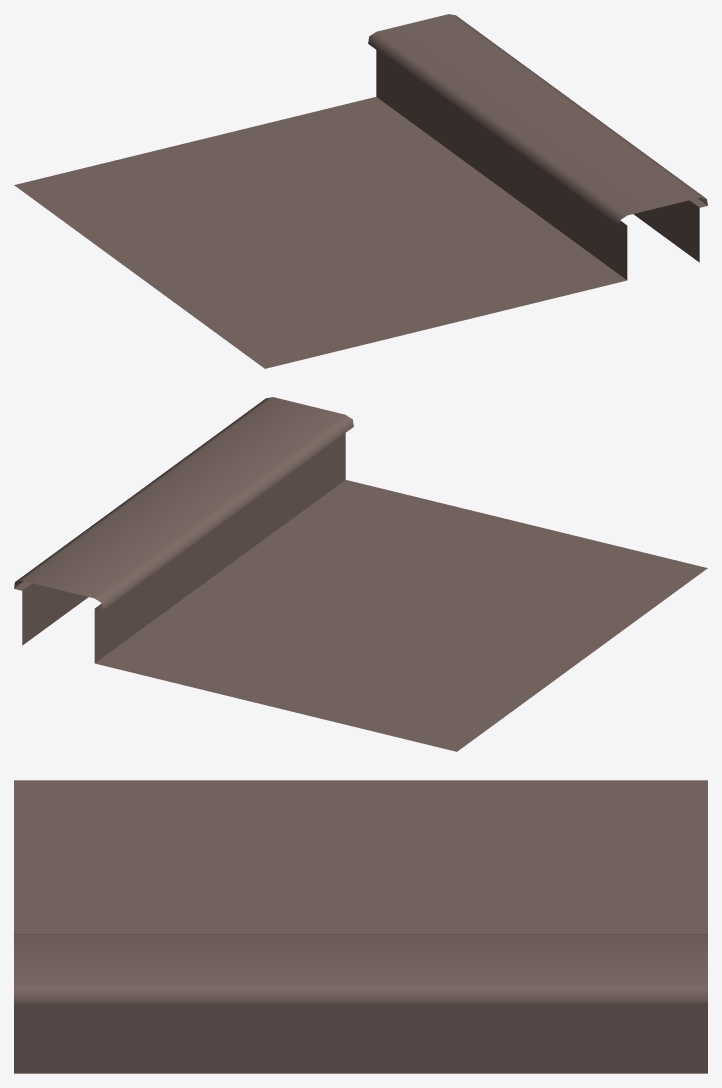
Rendered from Building_Roof_v2_01.fbx.
3 renders of one model, top to bottom at view 1: azimuth 30°, elevation 25°; view 2: azimuth 150°, elevation 25°; view 3: azimuth 270°, elevation 25°, orthographic. The views are drawn at different scales.
Visible parts, largest first — view 1: Building_Roof_v2_01; view 2: Building_Roof_v2_01; view 3: Building_Roof_v2_01.
Boxes of the visible parts, <box> form: Building_Roof_v2_01: <box>14,14,707,368</box>; Building_Roof_v2_01: <box>14,397,707,751</box>; Building_Roof_v2_01: <box>14,780,707,1073</box>.
Bounding box in the file's own units: 3.06 × 0.4286 × 3.
